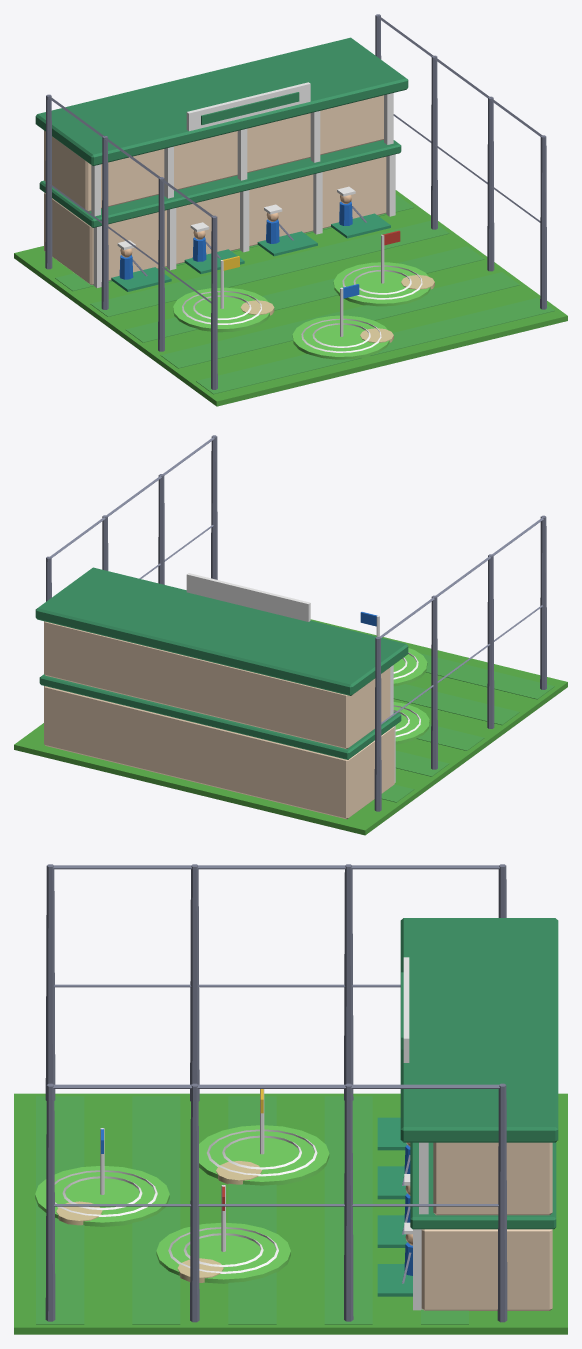
Rendered from driving-range.glb.
3 renders of one model, top to bottom at view 1: azimuth 30°, elevation 25°; view 2: azimuth 150°, elevation 25°; view 3: azimuth 270°, elevation 25°, orthographic. The views are drawn at different scales.
Parts seen in each view (by area): view 1: model; view 2: model; view 3: model.
Boxes of the visible parts, <box> form: model: <box>14,14,567,406</box>; model: <box>14,435,567,835</box>; model: <box>14,864,567,1334</box>.
Bounding box in the file's own units: 2.88 × 1.39 × 2.88.
1 material, 1 textured.
